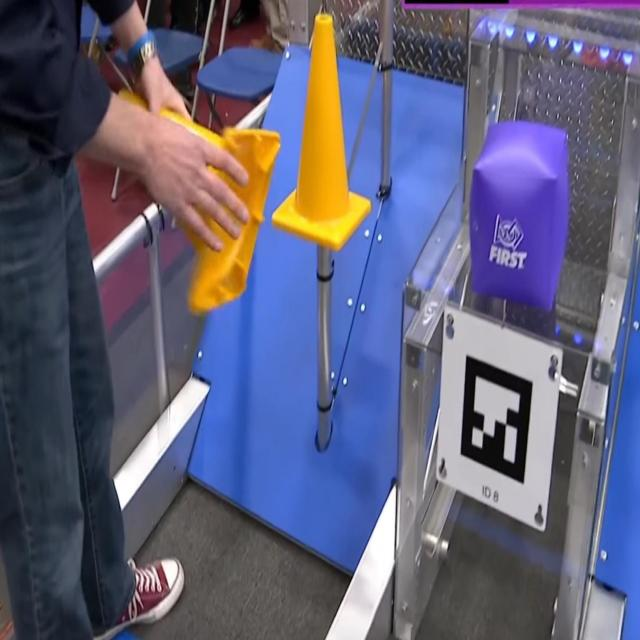frc_cone: (117, 89, 278, 315), (272, 17, 373, 251)
frc_cube: (471, 122, 569, 309)
